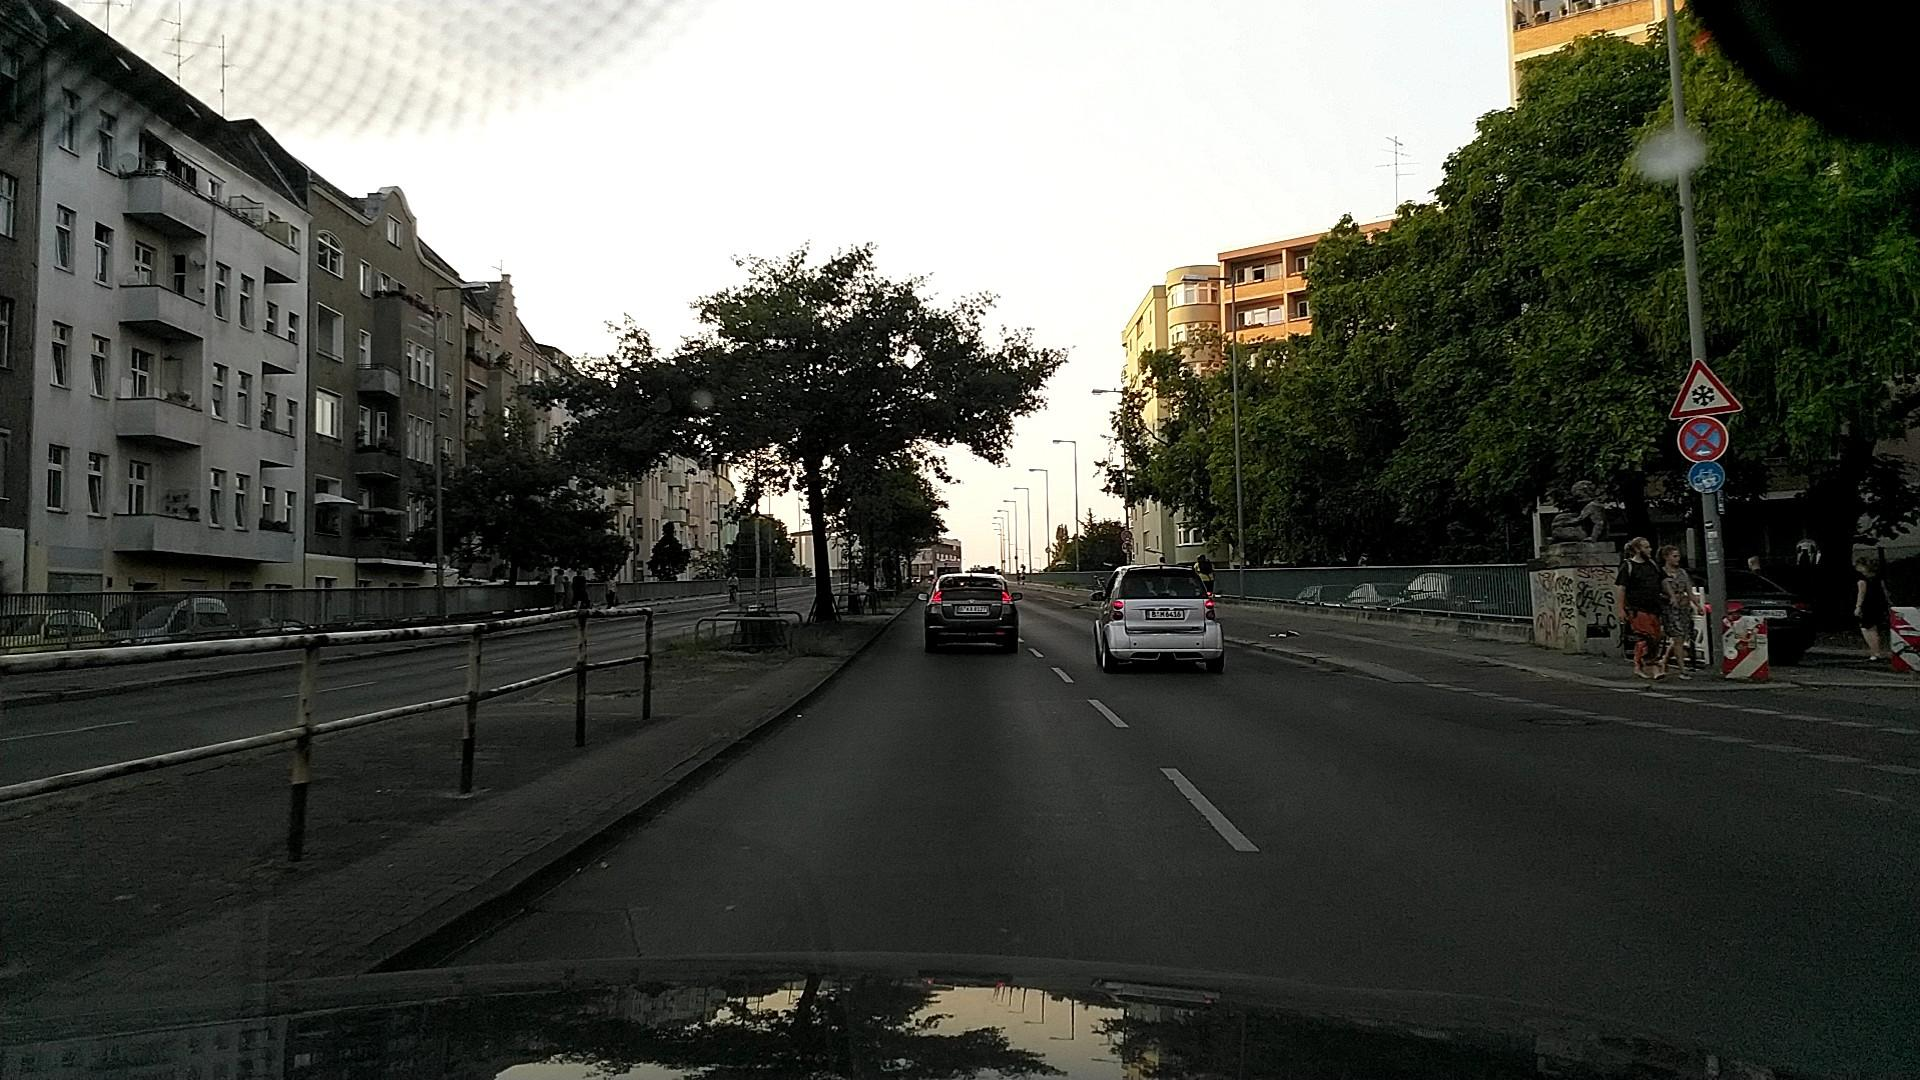Human face: (1630, 536, 1652, 561), (1662, 546, 1681, 567), (1855, 557, 1873, 575)
Vehicle registration plate: (1145, 609, 1184, 620), (1751, 609, 1787, 619), (956, 605, 989, 613)
